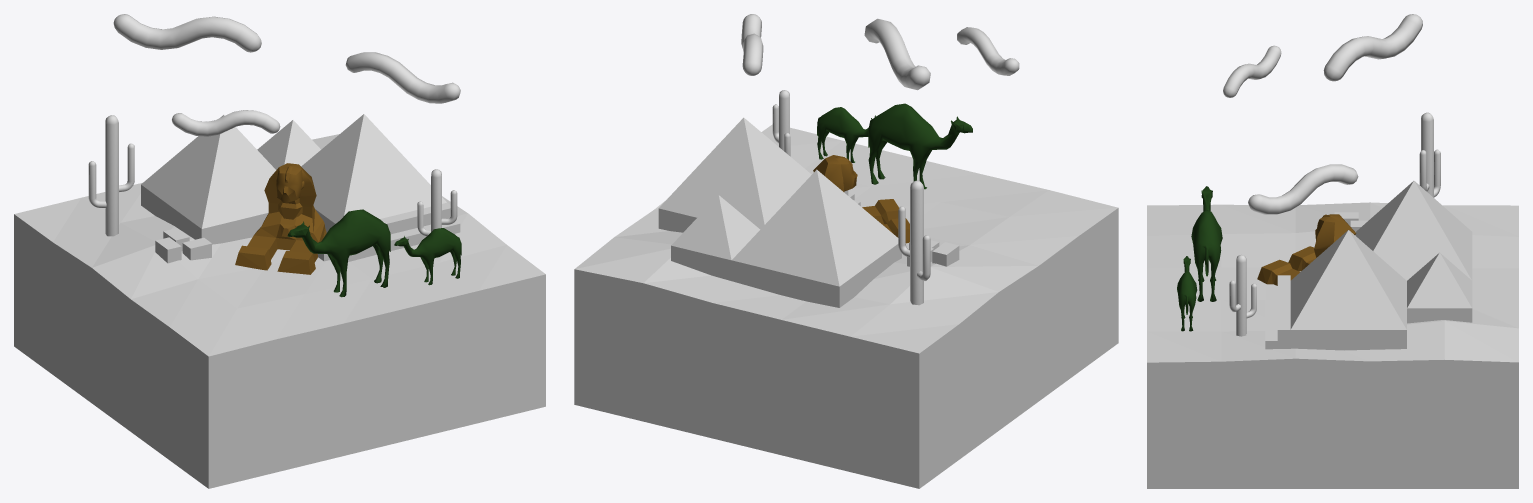
Rendered from sandland.FBX.
3 renders of one model, left to right at view 1: azimuth 30°, elevation 25°; view 2: azimuth 150°, elevation 25°; view 3: azimuth 270°, elevation 25°, orthographic. The views are drawn at different scales.
Parts seen in each view (by area): view 1: sandland, hot_cone, hot_lion, Camel poly, hotwind004, hot_cactus01, hotwind003, hotwind005, Camel poly001, hot_sand01, hot_cactus02; view 2: sandland, hot_cone, Camel poly, hot_cactus01, hotwind004, hot_lion, Camel poly001, hotwind005, hotwind003, hot_cactus02, hot_sand01; view 3: sandland, hot_cone, hotwind004, hotwind003, hot_lion, Camel poly, hot_cactus01, hot_cactus02, hotwind005, Camel poly001.
Part boxes in pixels (bbox=[...]): sandland: bbox=[14, 134, 545, 488]; hot_cone: bbox=[141, 114, 460, 261]; hot_lion: bbox=[235, 163, 326, 274]; Camel poly: bbox=[287, 209, 390, 297]; hotwind004: bbox=[113, 14, 261, 52]; hot_cactus01: bbox=[88, 115, 134, 236]; hotwind003: bbox=[345, 52, 460, 103]; hotwind005: bbox=[172, 110, 280, 136]; Camel poly001: bbox=[394, 228, 461, 285]; hot_sand01: bbox=[155, 228, 211, 263]; hot_cactus02: bbox=[417, 169, 457, 236]; sandland: bbox=[574, 124, 1118, 488]; hot_cone: bbox=[658, 117, 901, 307]; Camel poly: bbox=[868, 103, 972, 189]; hot_cactus01: bbox=[898, 180, 930, 305]; hotwind004: bbox=[864, 18, 930, 90]; hot_lion: bbox=[813, 155, 909, 243]; Camel poly001: bbox=[817, 107, 875, 162]; hotwind005: bbox=[957, 27, 1019, 75]; hotwind003: bbox=[741, 14, 763, 75]; hot_cactus02: bbox=[772, 90, 790, 156]; hot_sand01: bbox=[907, 240, 959, 266]; sandland: bbox=[1147, 202, 1518, 488]; hot_cone: bbox=[1265, 181, 1472, 350]; hotwind004: bbox=[1323, 14, 1422, 81]; hotwind003: bbox=[1248, 164, 1358, 214]; hot_lion: bbox=[1257, 214, 1356, 285]; Camel poly: bbox=[1191, 186, 1222, 301]; hot_cactus01: bbox=[1419, 112, 1440, 197]; hot_cactus02: bbox=[1229, 255, 1256, 336]; hotwind005: bbox=[1223, 45, 1281, 97]; Camel poly001: bbox=[1177, 256, 1197, 331].
Size of the model in its own units: 2.62 by 2.7 by 2.62.
